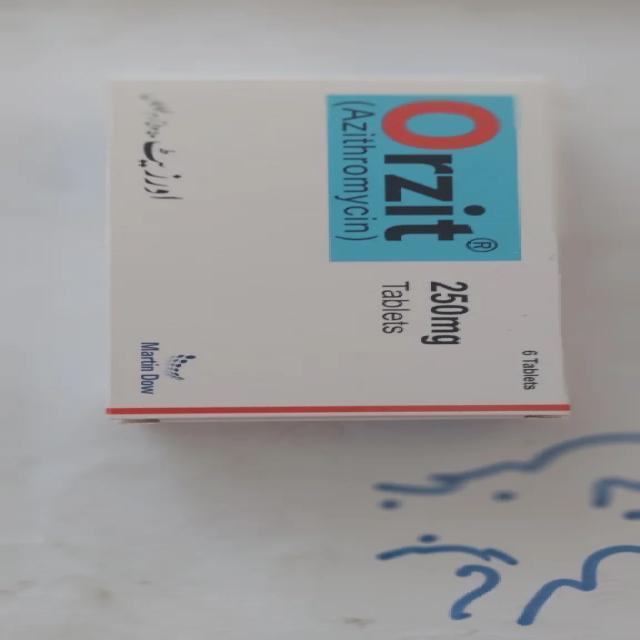drug-name: (379, 99, 503, 251)
